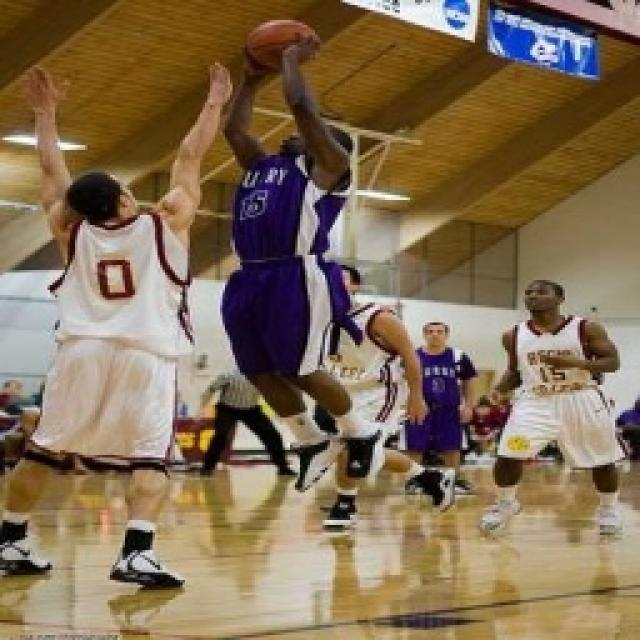basketball: (236, 11, 335, 78)
